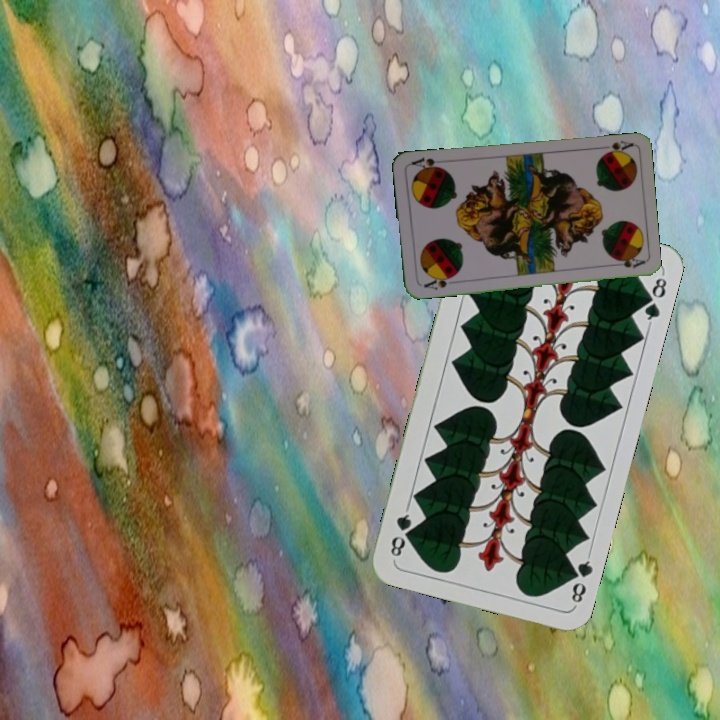G8: (564, 550, 595, 606)
SA: (595, 137, 635, 158), (420, 272, 457, 292)
